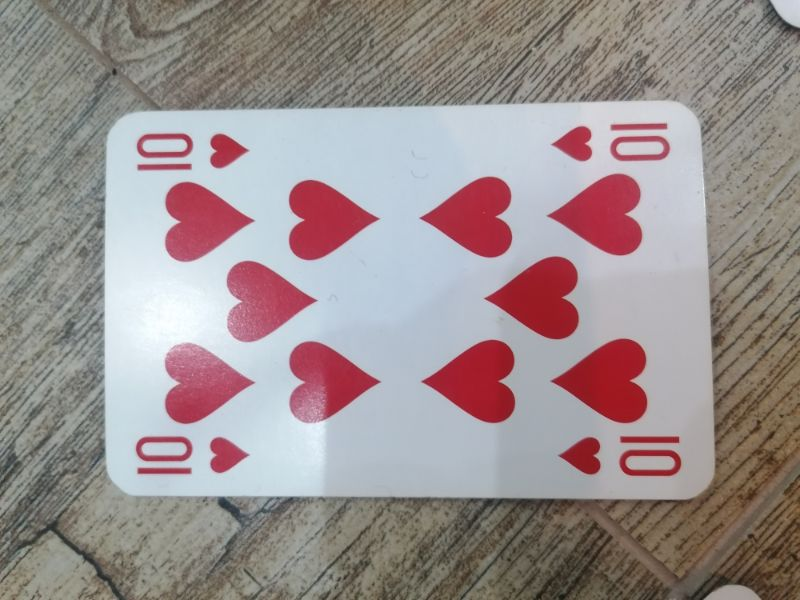Th: (558, 432, 687, 480), (548, 116, 674, 165), (133, 433, 254, 477), (131, 130, 254, 172)
